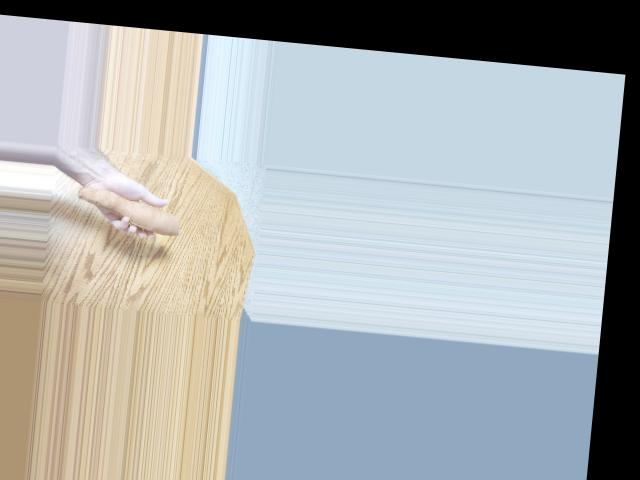sweet_potato: (63, 185, 184, 240)
